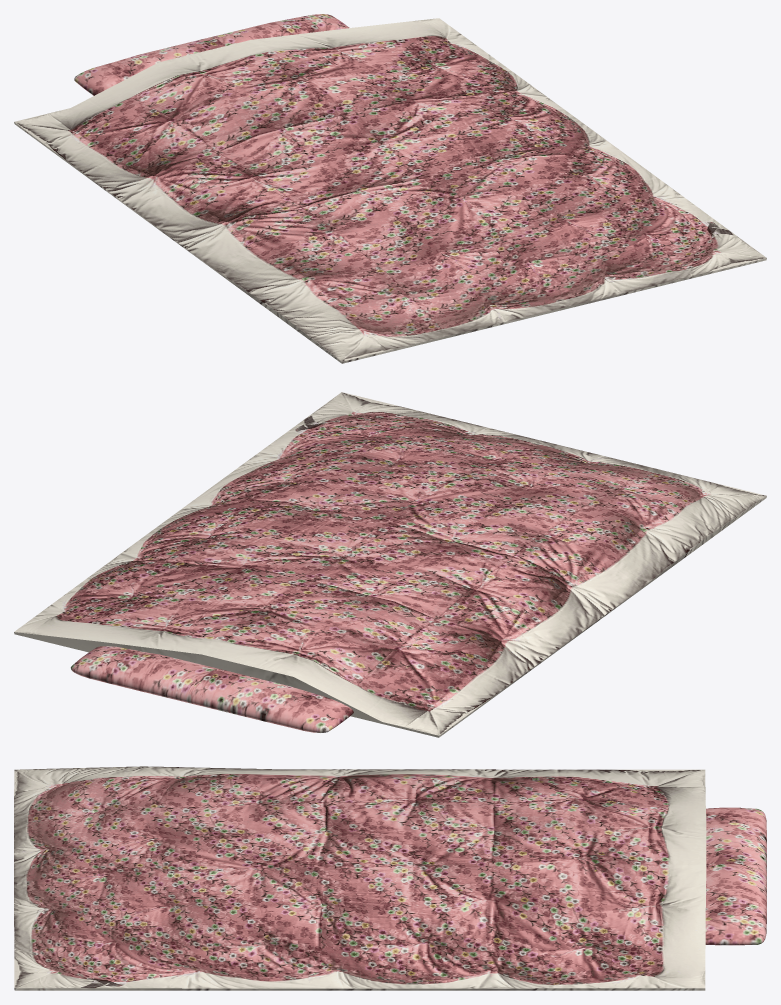
The model's file is futon.fbx.
The picture shows the model from 3 angles, top to bottom: view 1: azimuth 30°, elevation 25°; view 2: azimuth 150°, elevation 25°; view 3: azimuth 270°, elevation 25°; orthographic projection. The views are drawn at different scales.
Parts seen in each view (by area): view 1: futon; view 2: futon; view 3: futon.
Boxes of the visible parts, x1,y1,x2,y2 form: futon: (14, 14, 766, 363); futon: (14, 392, 766, 737); futon: (14, 766, 766, 990).
Bounding box in the file's own units: 132 × 9.36 × 192.
1 material, 1 textured.
